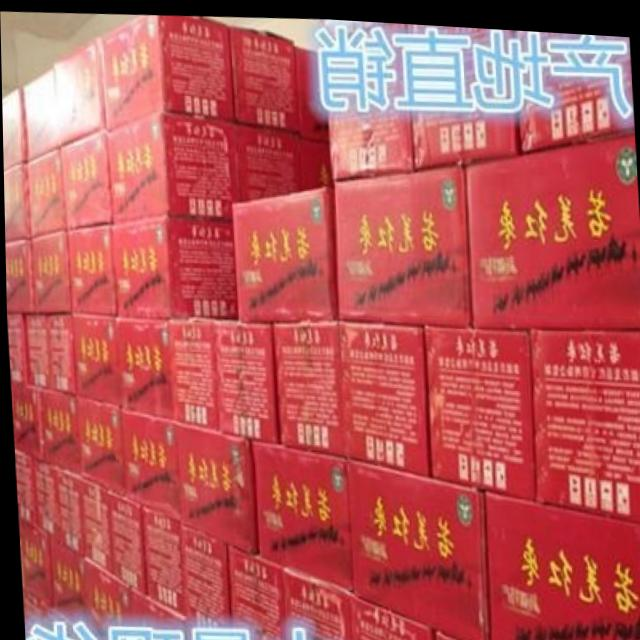box: (460, 123, 640, 321), (343, 452, 487, 640), (482, 483, 640, 640), (333, 161, 472, 321), (526, 322, 640, 515), (419, 320, 534, 494), (405, 19, 517, 165), (99, 13, 234, 129), (318, 15, 413, 177), (107, 109, 239, 223), (336, 314, 430, 474), (515, 24, 632, 148), (250, 440, 348, 587), (229, 182, 336, 316), (111, 213, 235, 315), (174, 424, 255, 555), (274, 312, 343, 452), (228, 22, 299, 133), (213, 314, 277, 437), (114, 313, 175, 418), (119, 411, 177, 518), (52, 33, 107, 144), (175, 518, 226, 633), (165, 316, 216, 431), (223, 541, 280, 640), (234, 120, 303, 198), (136, 501, 182, 615), (59, 132, 112, 229), (279, 566, 348, 640), (67, 311, 119, 407), (73, 395, 123, 493), (63, 223, 115, 313), (21, 313, 75, 395), (347, 589, 433, 640), (76, 558, 128, 640), (105, 487, 143, 594), (24, 146, 65, 237), (22, 59, 58, 161), (294, 42, 330, 142), (119, 587, 184, 640), (33, 389, 74, 473), (28, 231, 67, 312), (76, 475, 108, 571), (16, 517, 48, 608), (45, 537, 78, 624), (51, 467, 80, 556), (9, 383, 40, 462), (29, 458, 55, 539), (4, 239, 32, 312), (3, 161, 28, 239), (2, 86, 24, 170), (299, 133, 333, 185), (12, 448, 32, 526), (5, 312, 26, 384), (180, 619, 244, 640), (433, 623, 470, 640)
